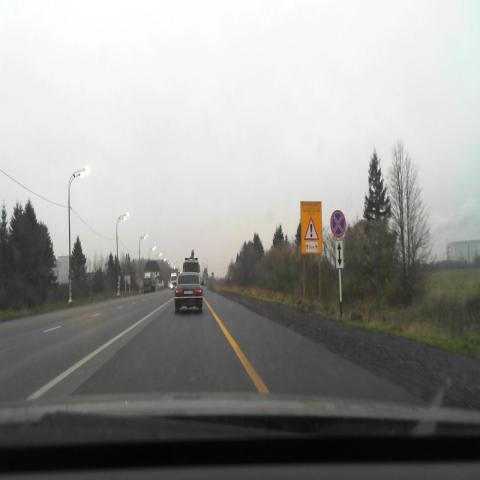1_33: (304, 216, 318, 240)
